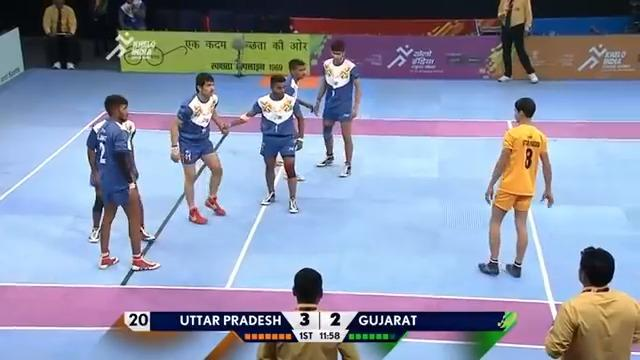Player: (87, 93, 160, 271), (225, 74, 304, 213), (169, 71, 229, 224), (312, 39, 361, 177), (275, 58, 315, 181)
Raider: (478, 96, 554, 277)
referee: (543, 245, 639, 359), (255, 267, 360, 359), (496, 0, 538, 83), (41, 0, 78, 69), (86, 0, 117, 57), (117, 0, 147, 30)
